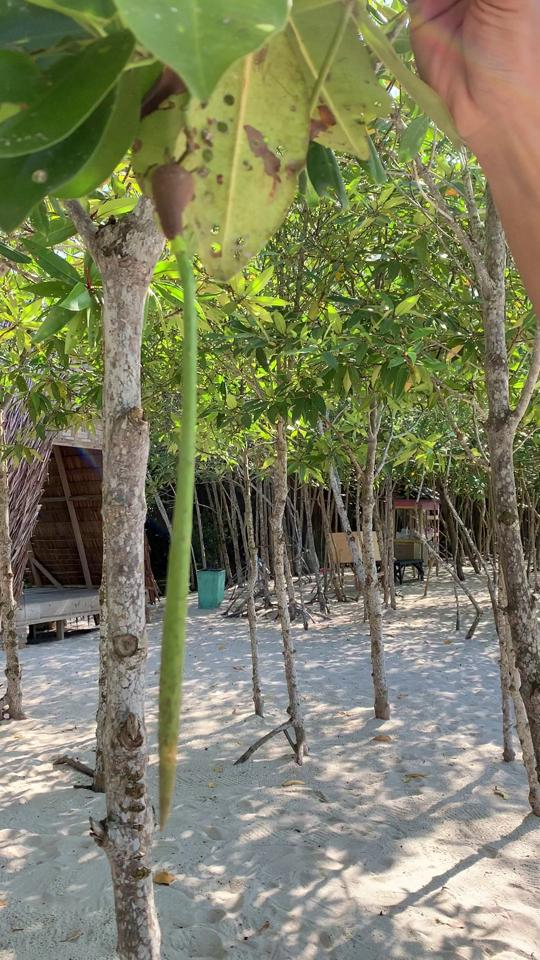setengah matang: (141, 145, 206, 832)
